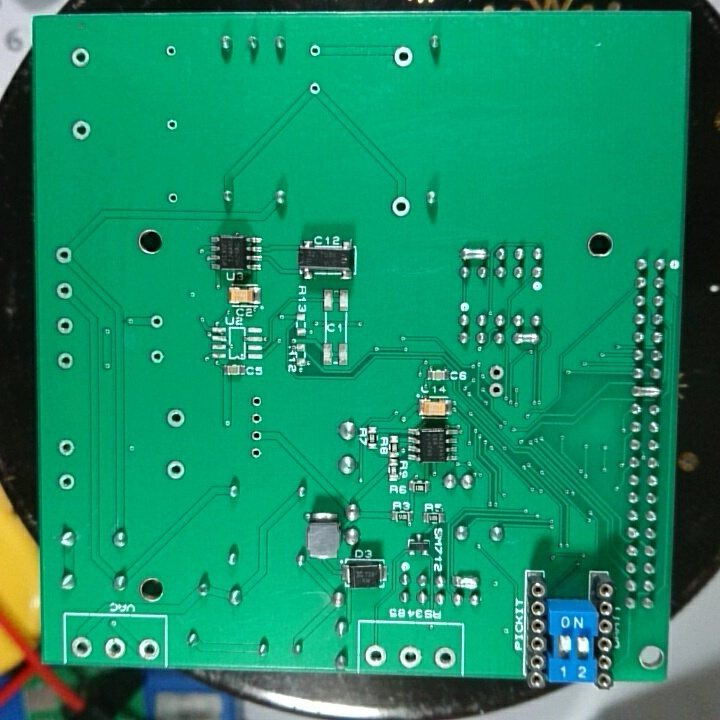F: (360, 640, 390, 670), (396, 643, 423, 671), (164, 405, 187, 435), (433, 643, 456, 672), (391, 43, 415, 69), (70, 633, 93, 660), (136, 636, 159, 661), (390, 193, 411, 220), (70, 120, 95, 142), (69, 46, 92, 69), (53, 245, 75, 269), (103, 636, 127, 658), (164, 458, 185, 483), (56, 438, 79, 459), (149, 346, 169, 370), (53, 280, 73, 303), (55, 349, 75, 372), (486, 361, 507, 382), (55, 316, 75, 337), (484, 381, 505, 400), (57, 472, 77, 491), (147, 314, 168, 332), (307, 43, 326, 60), (248, 443, 264, 463), (248, 426, 266, 443), (163, 41, 179, 60), (307, 80, 324, 97), (164, 117, 181, 134), (165, 191, 182, 206), (249, 394, 264, 410), (250, 412, 265, 426)
P: (450, 572, 482, 593), (510, 329, 541, 349), (456, 246, 490, 264), (630, 381, 661, 400)
